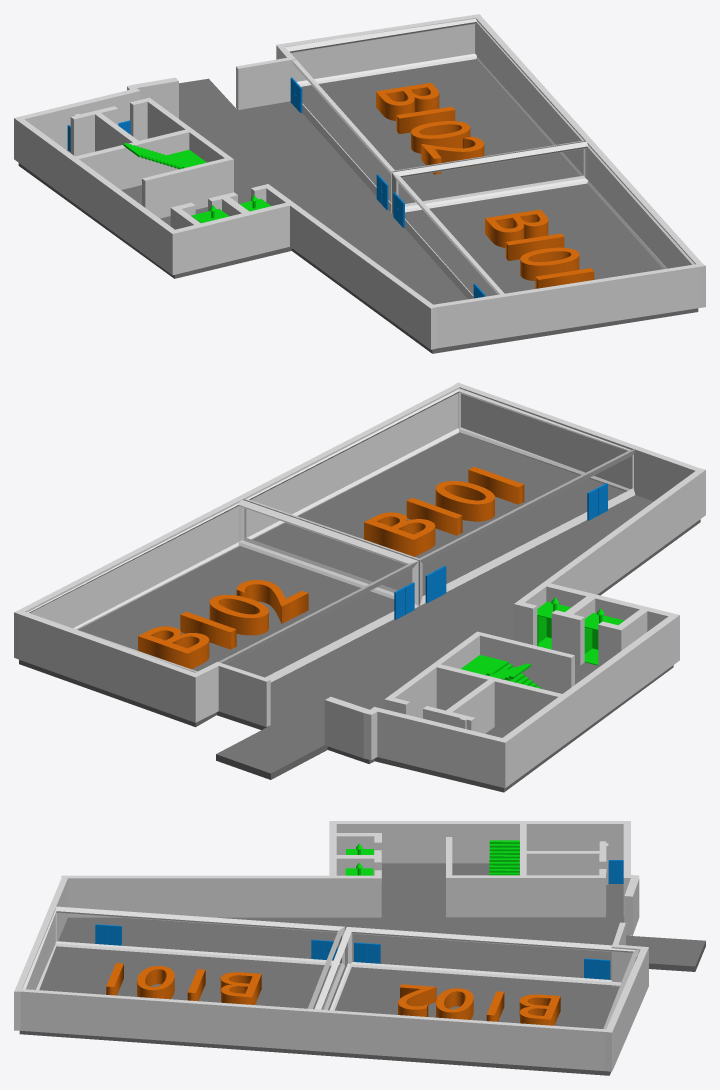
The picture shows the model from 3 angles, top to bottom: view 1: azimuth 30°, elevation 25°; view 2: azimuth 150°, elevation 25°; view 3: azimuth 270°, elevation 25°; orthographic projection. The views are drawn at different scales.
Parts seen in each view (by area): view 1: Wall, Floor, B102, B101, Text.001, Text, Stair2; view 2: Wall, Floor, B101, B102, Text.001, Text, Elevator2, Elevator1, Door; view 3: Wall, Floor, B102, B101, Text.001, Text, Stair2, Door.003, Door.001, Door.002, Door.
Part boxes in pixels (x1=…): Wall: x1=14, y1=14, x2=705, y2=349; Floor: x1=18, y1=59, x2=698, y2=353; B102: x1=285, y1=18, x2=585, y2=212; B101: x1=392, y1=141, x2=694, y2=299; Text.001: x1=376, y1=83, x2=484, y2=174; Text: x1=485, y1=209, x2=594, y2=288; Stair2: x1=123, y1=143, x2=182, y2=169; Wall: x1=14, y1=382, x2=705, y2=787; Floor: x1=19, y1=432, x2=700, y2=792; B101: x1=243, y1=388, x2=635, y2=605; B102: x1=27, y1=500, x2=418, y2=682; Text.001: x1=138, y1=580, x2=308, y2=669; Text: x1=364, y1=466, x2=524, y2=556; Elevator2: x1=584, y1=613, x2=624, y2=665; Elevator1: x1=537, y1=601, x2=570, y2=649; Door: x1=425, y1=566, x2=446, y2=603; Wall: x1=14, y1=821, x2=648, y2=1071; Floor: x1=19, y1=863, x2=705, y2=1075; B102: x1=314, y1=927, x2=639, y2=1029; B101: x1=22, y1=906, x2=344, y2=1009; Text.001: x1=398, y1=984, x2=560, y2=1025; Text: x1=106, y1=963, x2=261, y2=1004; Stair2: x1=489, y1=840, x2=519, y2=875; Door.003: x1=95, y1=924, x2=121, y2=945; Door.001: x1=354, y1=942, x2=380, y2=963; Door.002: x1=584, y1=958, x2=610, y2=979; Door: x1=311, y1=939, x2=337, y2=960.
Bounding box in the file's own units: 1.62 × 0.1754 × 2.24.
